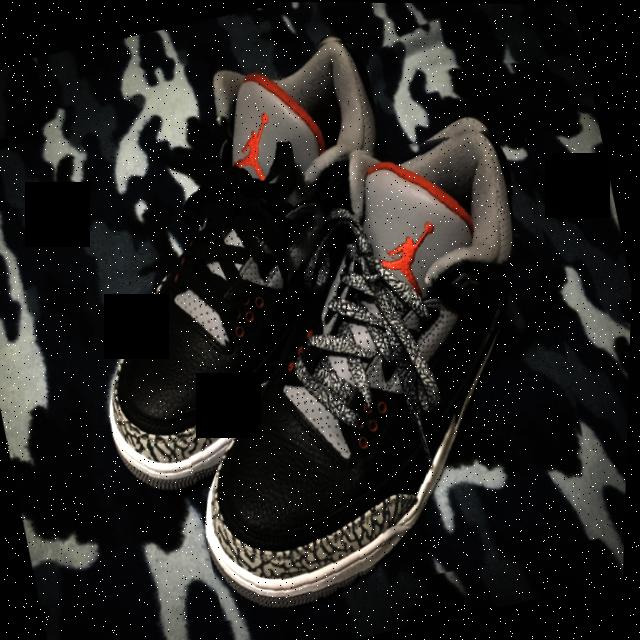shoe: (128, 106, 618, 623), (30, 27, 456, 507)
